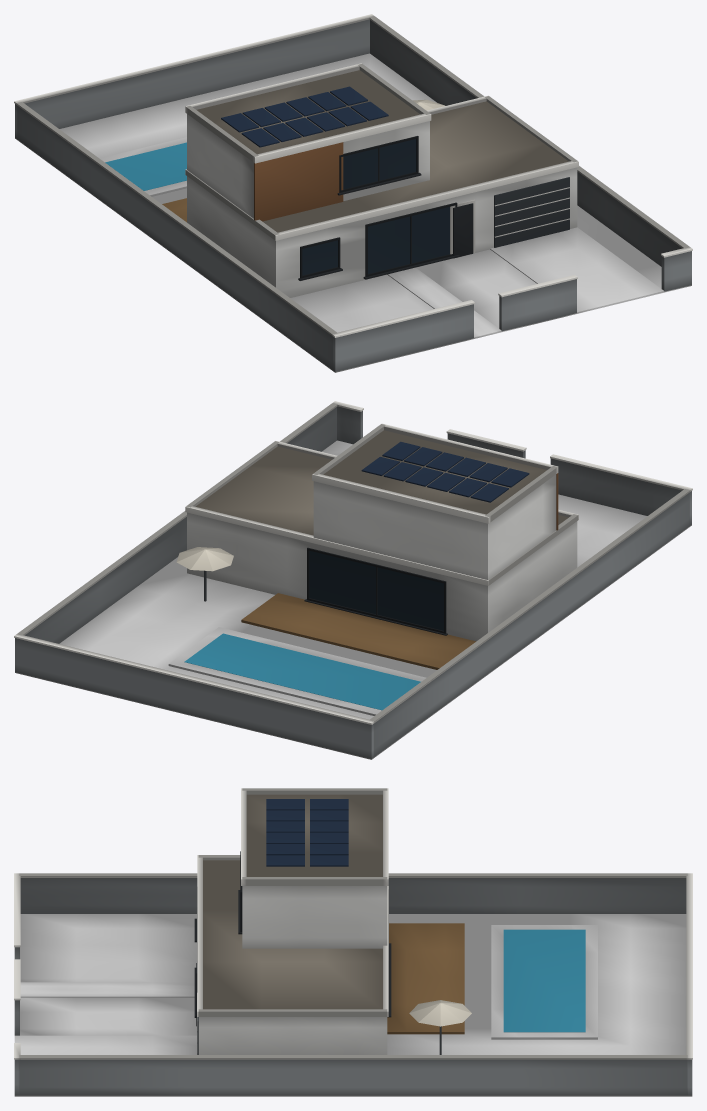
Rendered from moderna-B_PGZd9e.glb.
The picture shows the model from 3 angles, top to bottom: view 1: azimuth 30°, elevation 25°; view 2: azimuth 150°, elevation 25°; view 3: azimuth 270°, elevation 25°; orthographic projection. The views are drawn at different scales.
Parts seen in each view (by area): view 1: pasto, pieza.006, pieza.014, pieza.008, pieza.015, pieza.012, pieza.010, pieza.020, pieza.026, pieza.021, pieza, porton (+20 smaller); view 2: pasto, pieza.014, pieza.020, pieza.006, pieza.008, piscina.001, pieza.039, pieza.015, ventana.020, pieza.010, pieza.021, pieza (+14 smaller); view 3: pasto, pieza.010, pieza.008, pieza.015, pieza.020, piscina.001, pieza.039, pieza.014, pieza.021, piscina, pieza.012, pieza.011 (+12 smaller).
Boxes of the visible parts, bbox=[...] form: pasto: bbox=[15, 53, 691, 372]; pieza.006: bbox=[15, 19, 369, 138]; pieza.014: bbox=[187, 167, 577, 297]; pieza.008: bbox=[17, 106, 332, 369]; pieza.015: bbox=[262, 101, 568, 232]; pieza.012: bbox=[490, 227, 664, 312]; pieza.010: bbox=[370, 20, 682, 266]; pieza.020: bbox=[187, 114, 429, 218]; pieza.026: bbox=[254, 142, 343, 221]; pieza.021: bbox=[197, 70, 419, 154]; pieza: bbox=[332, 304, 473, 371]; porton: bbox=[494, 177, 569, 247]; pasto: bbox=[15, 440, 691, 759]; pieza.014: bbox=[187, 512, 577, 641]; pieza.020: bbox=[313, 474, 556, 579]; pieza.006: bbox=[15, 638, 374, 758]; pieza.008: bbox=[374, 493, 689, 756]; piscina.001: bbox=[184, 633, 420, 710]; pieza.039: bbox=[241, 593, 475, 669]; pieza.015: bbox=[195, 446, 568, 535]; ventana.020: bbox=[309, 550, 443, 630]; pieza.010: bbox=[24, 407, 336, 643]; pieza.021: bbox=[323, 430, 546, 514]; pieza: bbox=[550, 458, 691, 525]; pasto: bbox=[14, 914, 692, 1096]; pieza.010: bbox=[20, 1059, 686, 1095]; pieza.008: bbox=[20, 878, 686, 913]; pieza.015: bbox=[203, 860, 382, 1009]; pieza.020: bbox=[242, 886, 387, 948]; piscina.001: bbox=[503, 929, 585, 1032]; pieza.039: bbox=[387, 923, 464, 1034]; pieza.014: bbox=[198, 1017, 387, 1054]; pieza.021: bbox=[246, 794, 382, 876]; piscina: bbox=[491, 925, 597, 1039]; pieza.012: bbox=[14, 1035, 196, 1054]; pieza.011: bbox=[19, 1055, 687, 1059].
Size of the model in its own units: 18.06 by 6.3 by 28.06.
